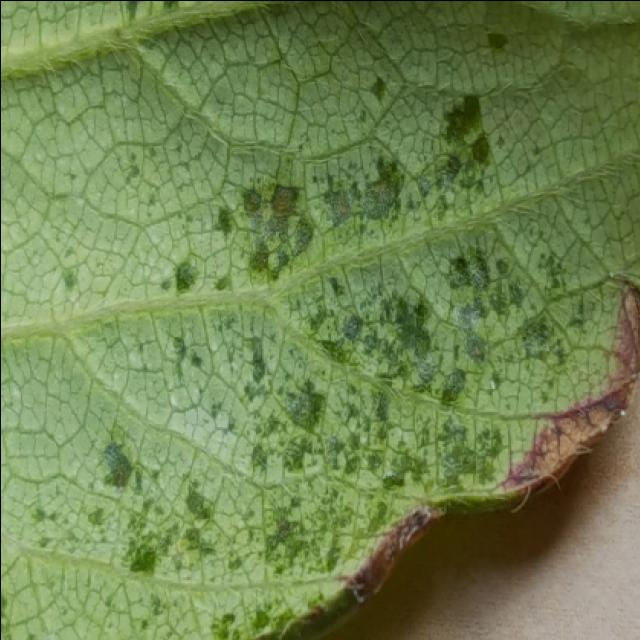Angular Leafspot: (0, 28, 638, 640)
